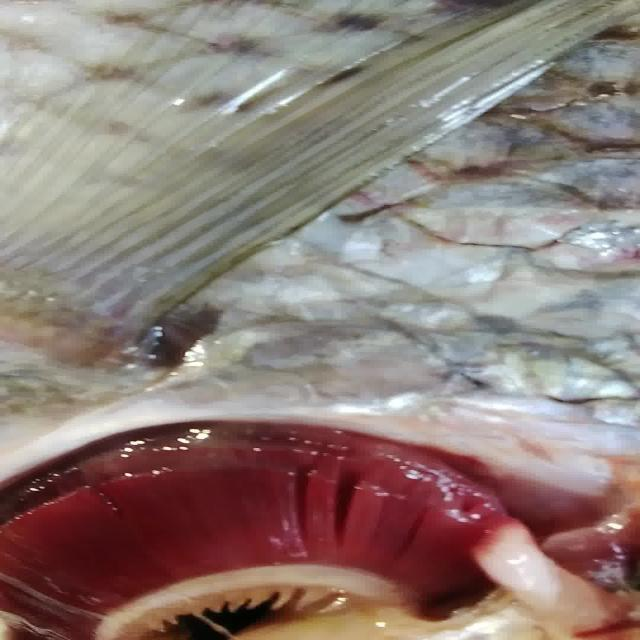Fresh: (0, 390, 584, 640)
